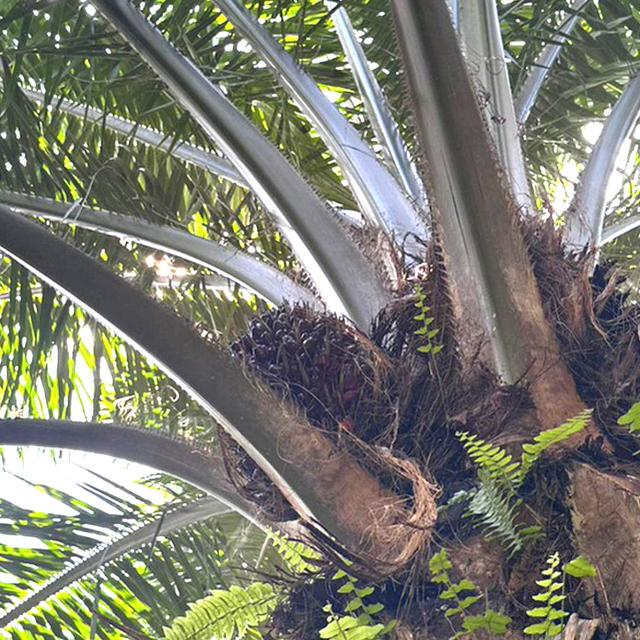ripe: (225, 292, 402, 458)
